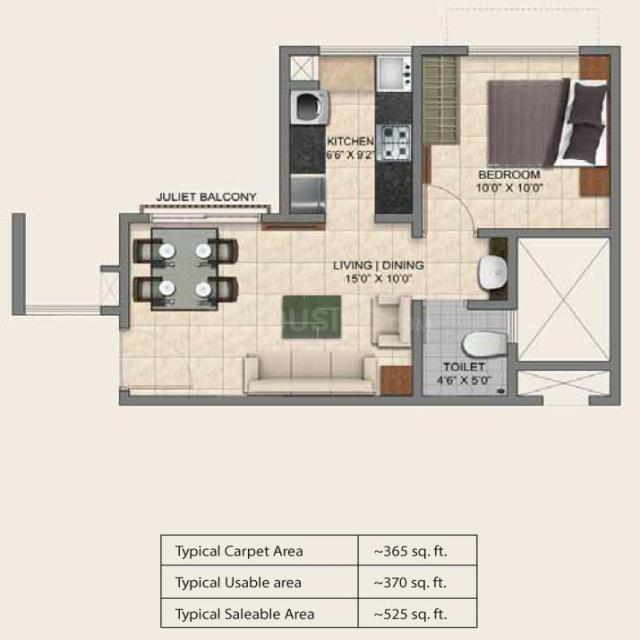Bedroom: (417, 49, 618, 234)
Dining: (131, 226, 241, 313)
Enterance-Foyer: (120, 320, 198, 396)
Kitchen: (281, 47, 414, 213)
Living: (242, 280, 412, 397)
Toilet: (414, 306, 515, 402)
